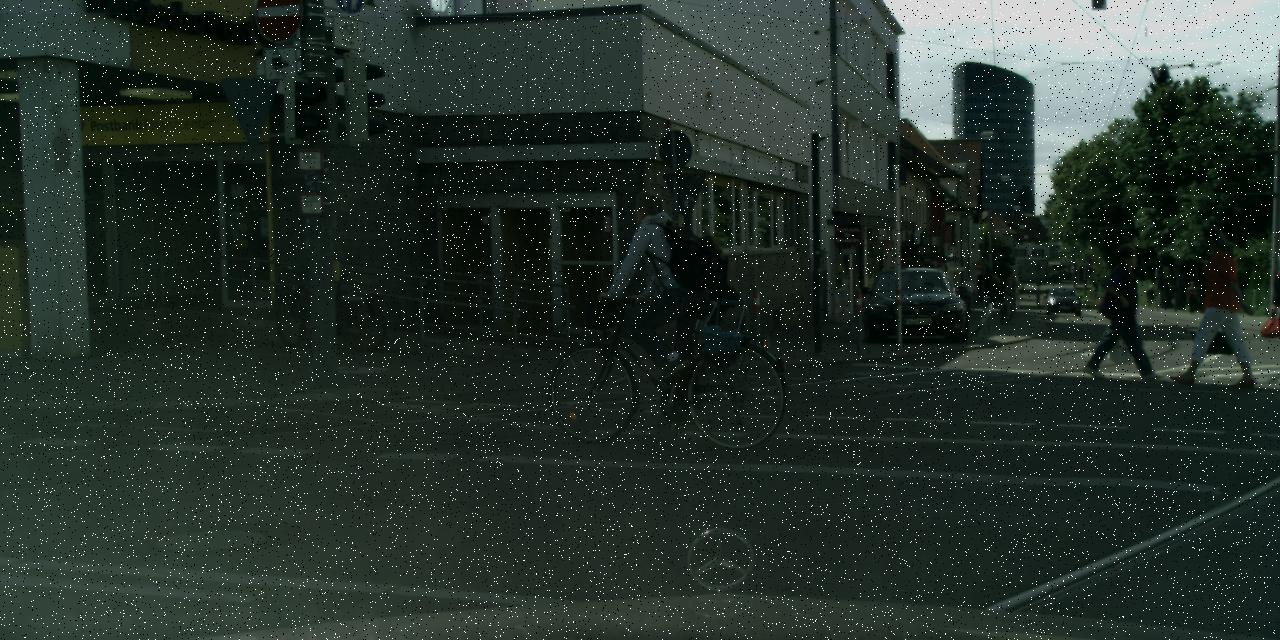ped: (620, 190, 703, 394), (1179, 224, 1244, 384), (1096, 243, 1150, 377), (1185, 280, 1199, 314), (960, 276, 974, 310), (1146, 284, 1156, 308)
